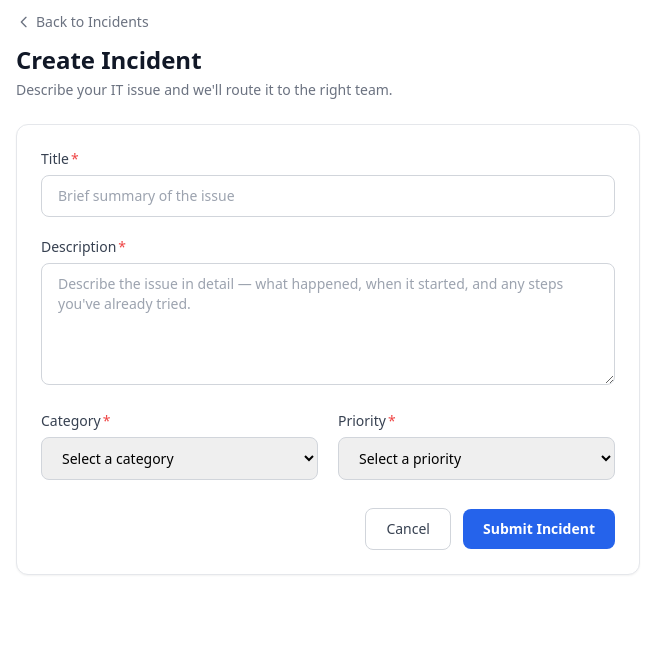
CreateIncidentPage › shows a title error when submitted empty
Click the button "Submit Incident" at (539, 529), box [463,509,615,549]
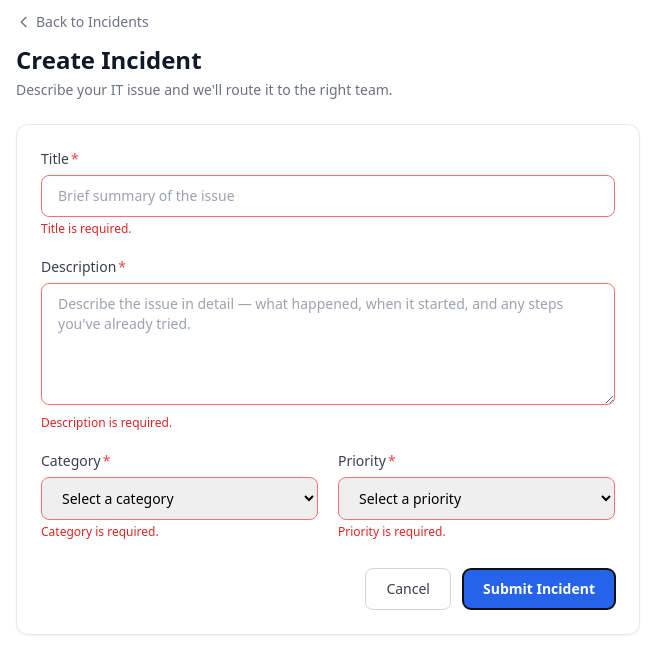
Check: the text "Title is required." is shown, box [41,220,132,237]
